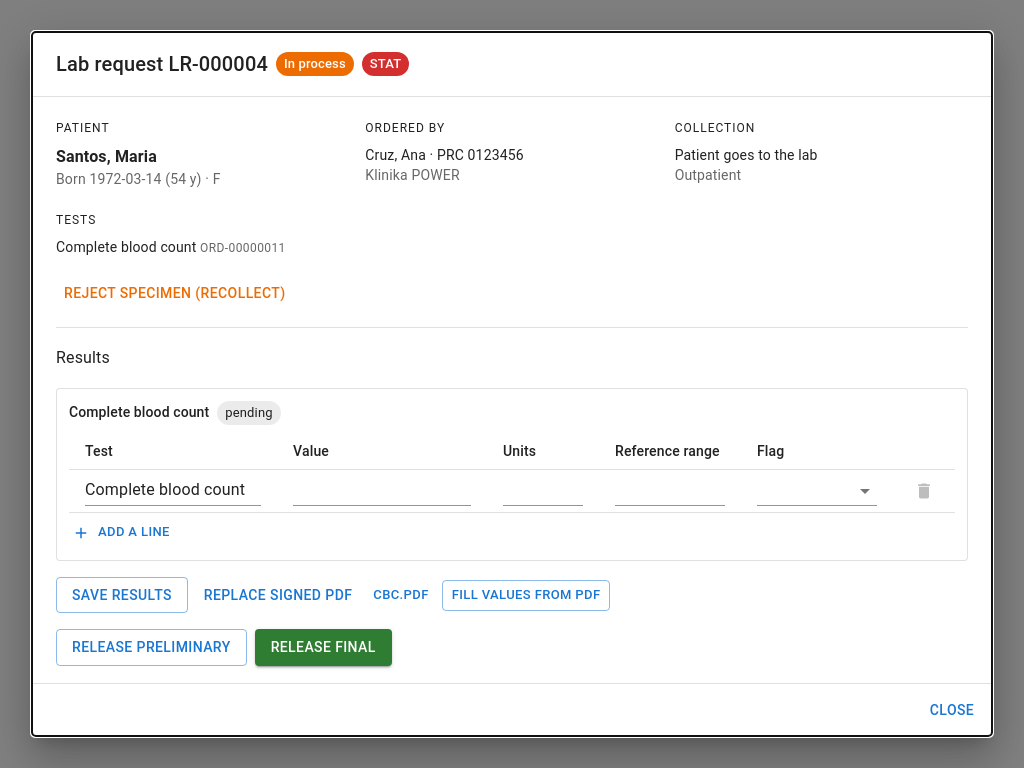
Test: a lab request › Fill values from PDF puts the read values in the form for review, without saving
What coordinates should you click on to do the following:
click the button with test id "lab-read-pdf"
I would click on:
 (526, 595)
Its box is [442, 580, 610, 611].
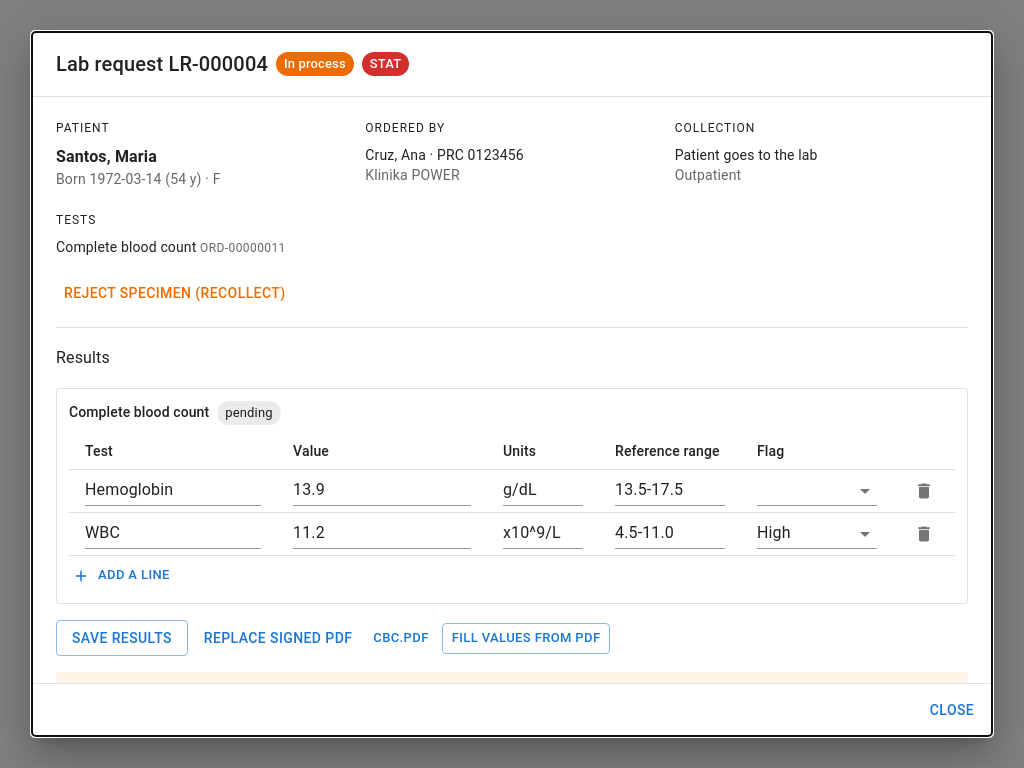
Expected: the field with test id "line-name-7-0" holds "Hemoglobin", [85, 477, 261, 506]
Expected: the field with test id "line-value-7-1" holds "11.2", [293, 520, 471, 549]
